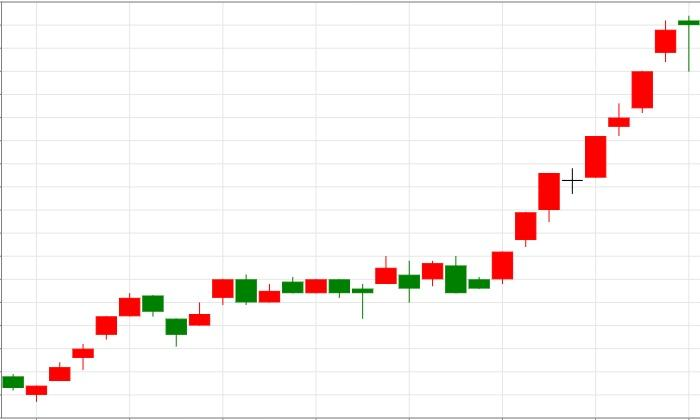three_white_soldiers_rise: (421, 172, 560, 293)
